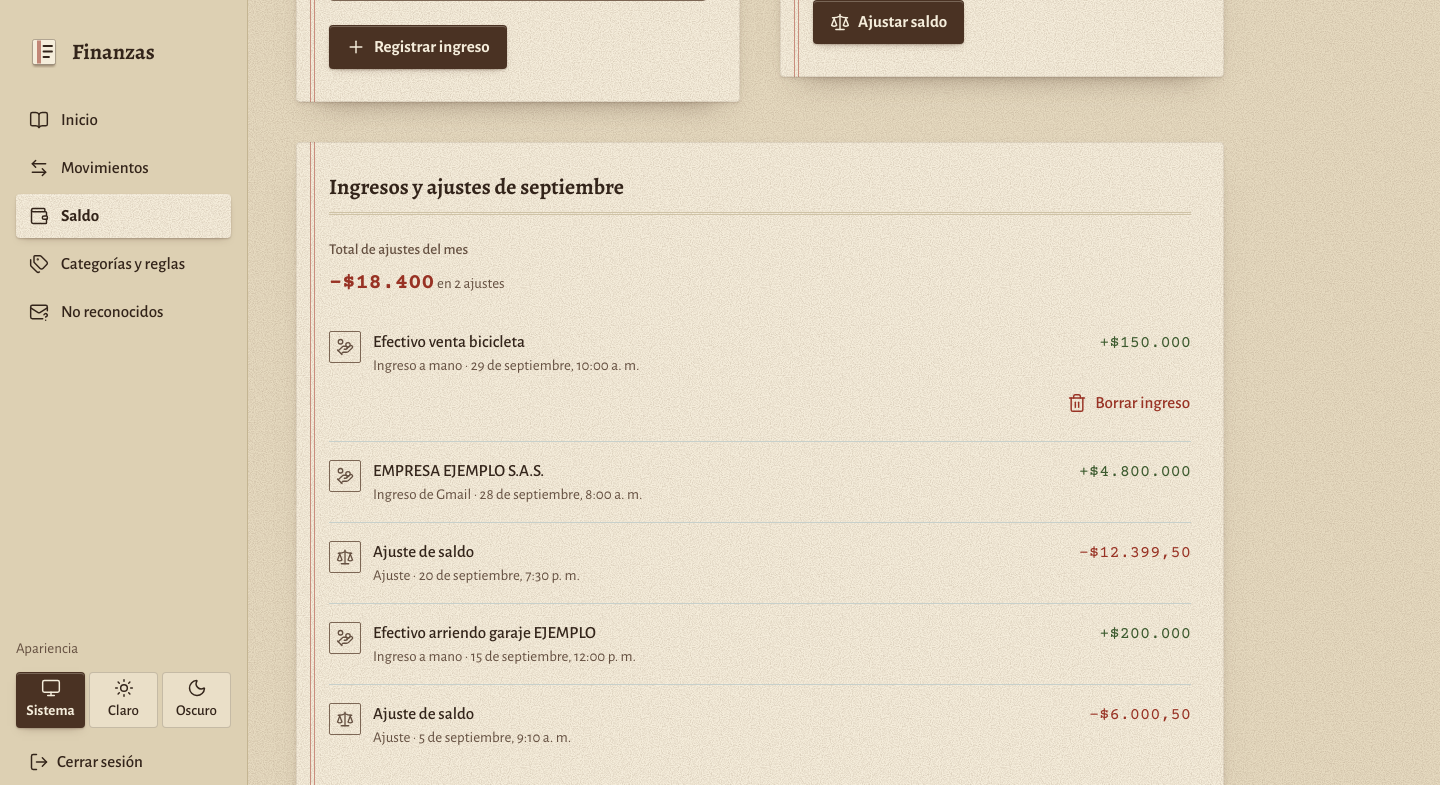
Test: Saldo › borrar un ingreso es tocar y deshacer: sin confirmación, baja el saldo exactamente en su monto
(page scrolled)
Click the button named "Borrar ingreso Efectivo venta bicicleta". click: (1129, 403)
box: [1054,381,1203,425]
(page scrolled)
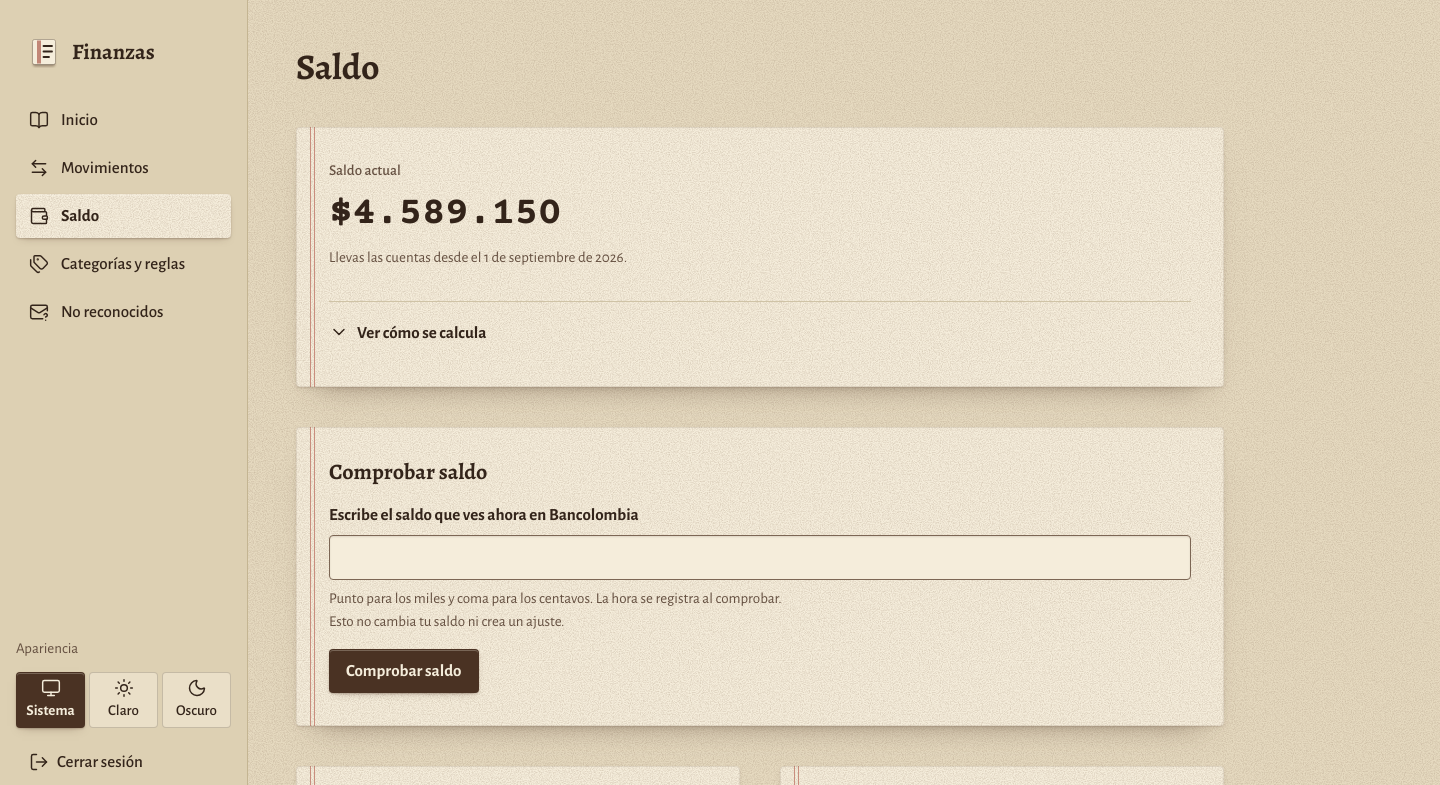
expect the element "Saldo actual" shows "$4.589.150": met, box [329,192,561,237]
expect the text "Efectivo venta bicicleta" is gone: met
